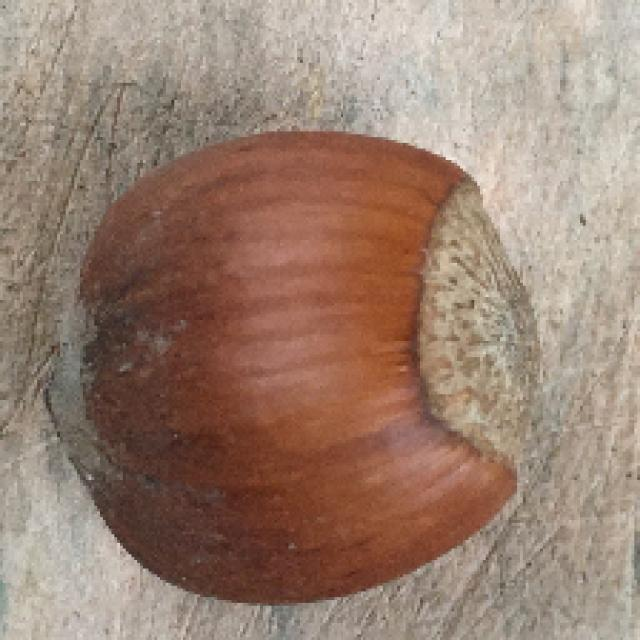damagedHazelnut: (52, 123, 534, 608)
